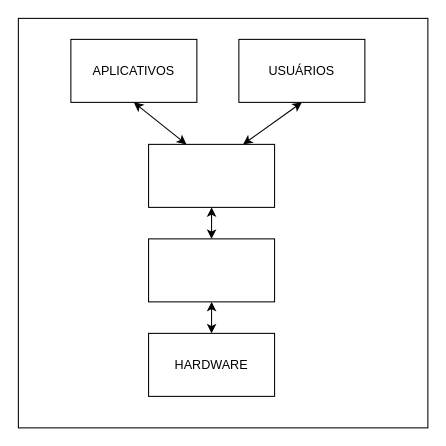
This 446x446 diagram has some shape labels left out. Each missing label, with the centre of its shape:
KERNEL: (x=211, y=270)
SHELL: (x=211, y=175)
